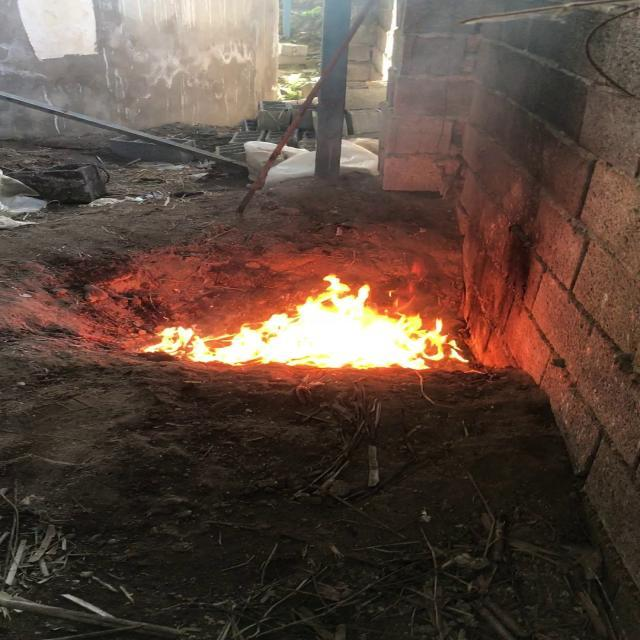Fire: (114, 270, 467, 387)
